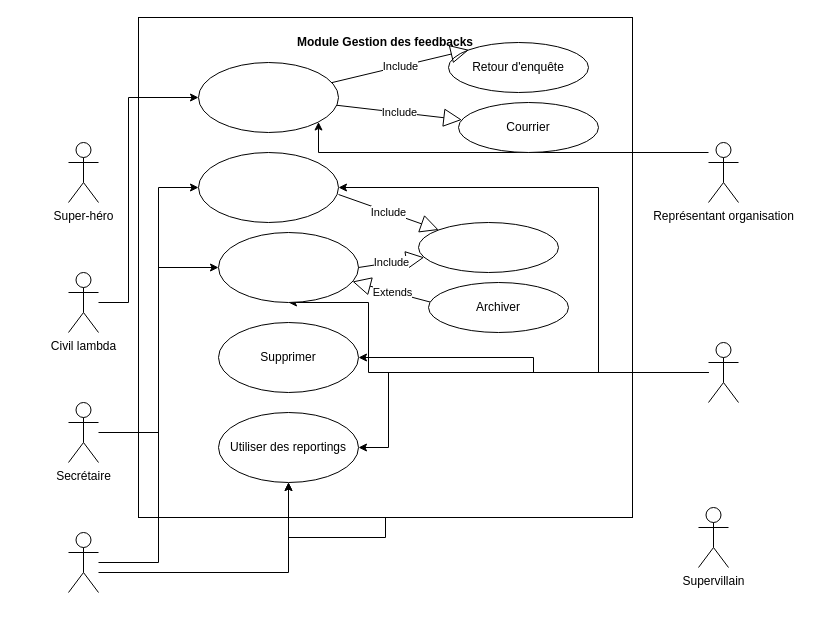
This 829x631 diagram has some shape labels left out. The centre of each missing label's shape, as x and y in pixels:
Agent agréé S.H.I..E.L.D: the point at 83,562
Ajouter une enquête: the point at 268,187
Directeur S.HIELD (super-admin): the point at 723,372
Envoyer: the point at 268,97
Modifier une enquête: the point at 288,267
Valider/Refuser: the point at 488,247
